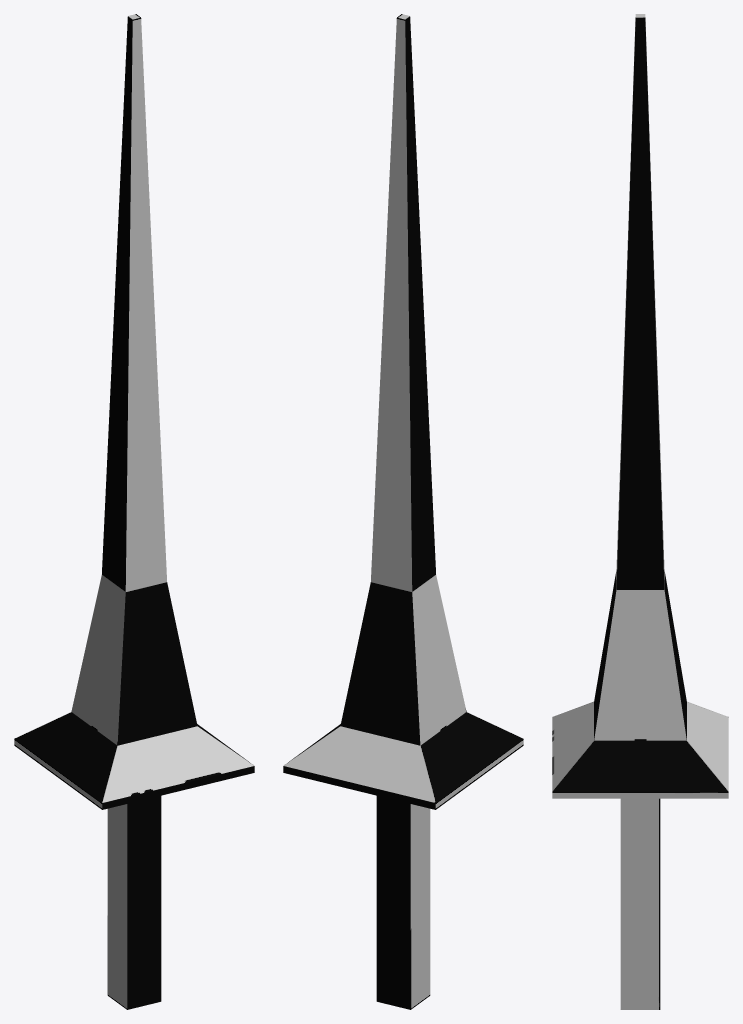
The model's file is lance.fbx.
3 views of the same model, side by side, from view 1: azimuth 30°, elevation 25°; view 2: azimuth 150°, elevation 25°; view 3: azimuth 270°, elevation 25° (orthographic).
Visible parts, largest first — view 1: Cube; view 2: Cube; view 3: Cube.
Boxes of the visible parts, x1,y1,x2,y2 form: Cube: (14,14,254,1009); Cube: (283,14,523,1009); Cube: (552,14,728,1009).
Size of the model in its own units: 194 by 1196 by 194.
1 material, 1 textured.
